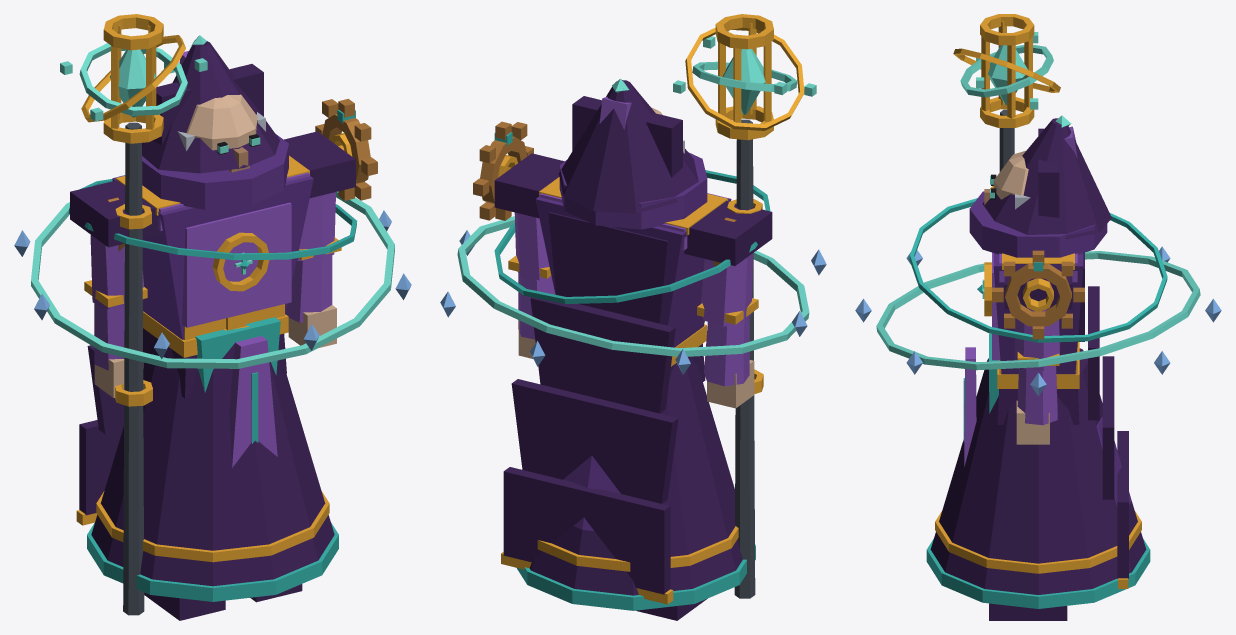
File: chronomancer.obj
3 views of the same model, side by side, from view 1: azimuth 30°, elevation 25°; view 2: azimuth 150°, elevation 25°; view 3: azimuth 270°, elevation 25° (orthographic). The views are drawn at different scales.
Parts seen in each view (by area): view 1: hips, torso, head, weapon, arm_l, aura, arm_r, cape, focus, leg_r; view 2: cape, hips, head, weapon, arm_r, aura, arm_l, torso, focus, leg_r; view 3: hips, head, aura, arm_l, cape, weapon, torso, focus, leg_l.
Boxes of the visible parts, <box> form: hips: <box>87,311,338,601</box>; torso: <box>112,155,313,392</box>; head: <box>142,35,288,209</box>; weapon: <box>103,14,163,615</box>; arm_l: <box>284,98,377,348</box>; aura: <box>14,175,411,368</box>; arm_r: <box>70,180,160,397</box>; cape: <box>76,345,123,525</box>; focus: <box>60,35,207,122</box>; leg_r: <box>144,592,225,620</box>; cape: <box>501,212,678,604</box>; hips: <box>517,324,755,610</box>; head: <box>559,78,707,229</box>; weapon: <box>715,14,773,598</box>; arm_r: <box>684,201,772,408</box>; aura: <box>440,170,826,374</box>; arm_l: <box>473,121,564,358</box>; torso: <box>535,177,731,347</box>; focus: <box>673,27,816,130</box>; leg_r: <box>636,598,707,620</box>; hips: <box>926,342,1150,608</box>; head: <box>969,115,1111,257</box>; aura: <box>855,198,1221,396</box>; arm_l: <box>992,250,1084,444</box>; cape: <box>1078,252,1128,588</box>; weapon: <box>980,14,1034,188</box>; torso: <box>977,252,1083,413</box>; focus: <box>953,32,1060,109</box>; leg_l: <box>989,603,1067,620</box>.
Size of the model in its own units: 0.702 by 1.12 by 0.702.
